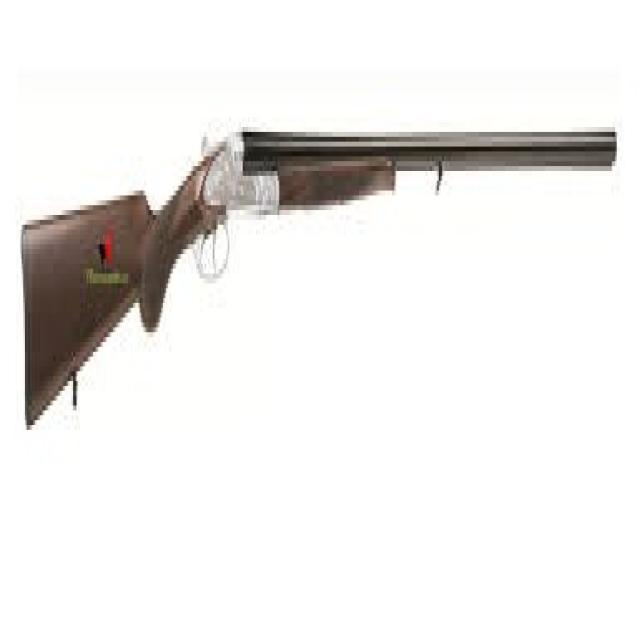rifle: (21, 116, 621, 454)
